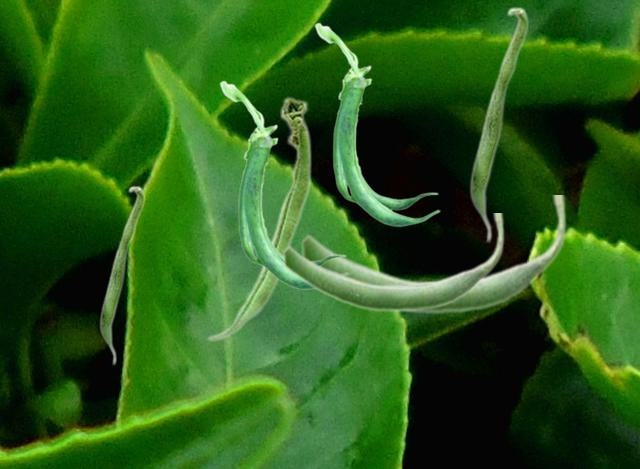french_bean: (300, 195, 566, 314), (219, 80, 347, 289), (206, 95, 311, 341), (314, 22, 439, 226), (282, 213, 504, 312), (469, 6, 528, 243), (99, 185, 144, 365)
